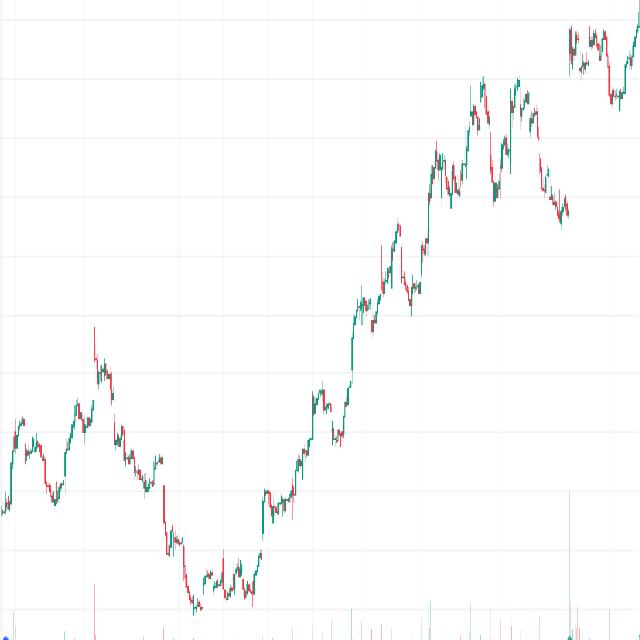Rounding-Bottom: (103, 358, 355, 624)
